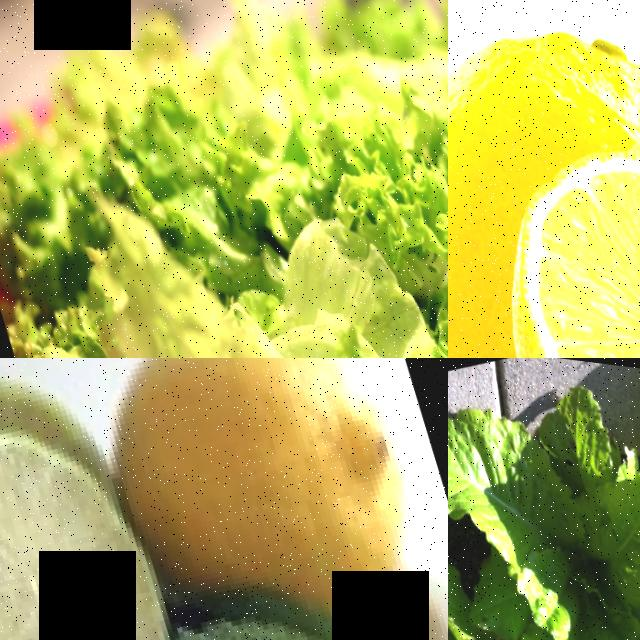lemon: (76, 358, 444, 619), (0, 378, 214, 640), (475, 135, 640, 358)
lettuce: (0, 35, 356, 358), (304, 0, 448, 358), (448, 536, 640, 640), (563, 414, 640, 640)
